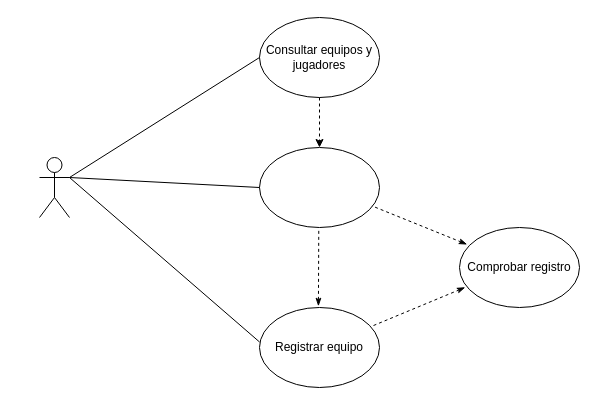
The diagram is 597 pixels wide and 405 high, and some of its shapes have lost their labels. Here are the shapes that lost their labels. From the top down, the centre of each, then its label:
At pixel 54 187: "Administrador".
At pixel 319 187: "Añadir jugador a equipo".
